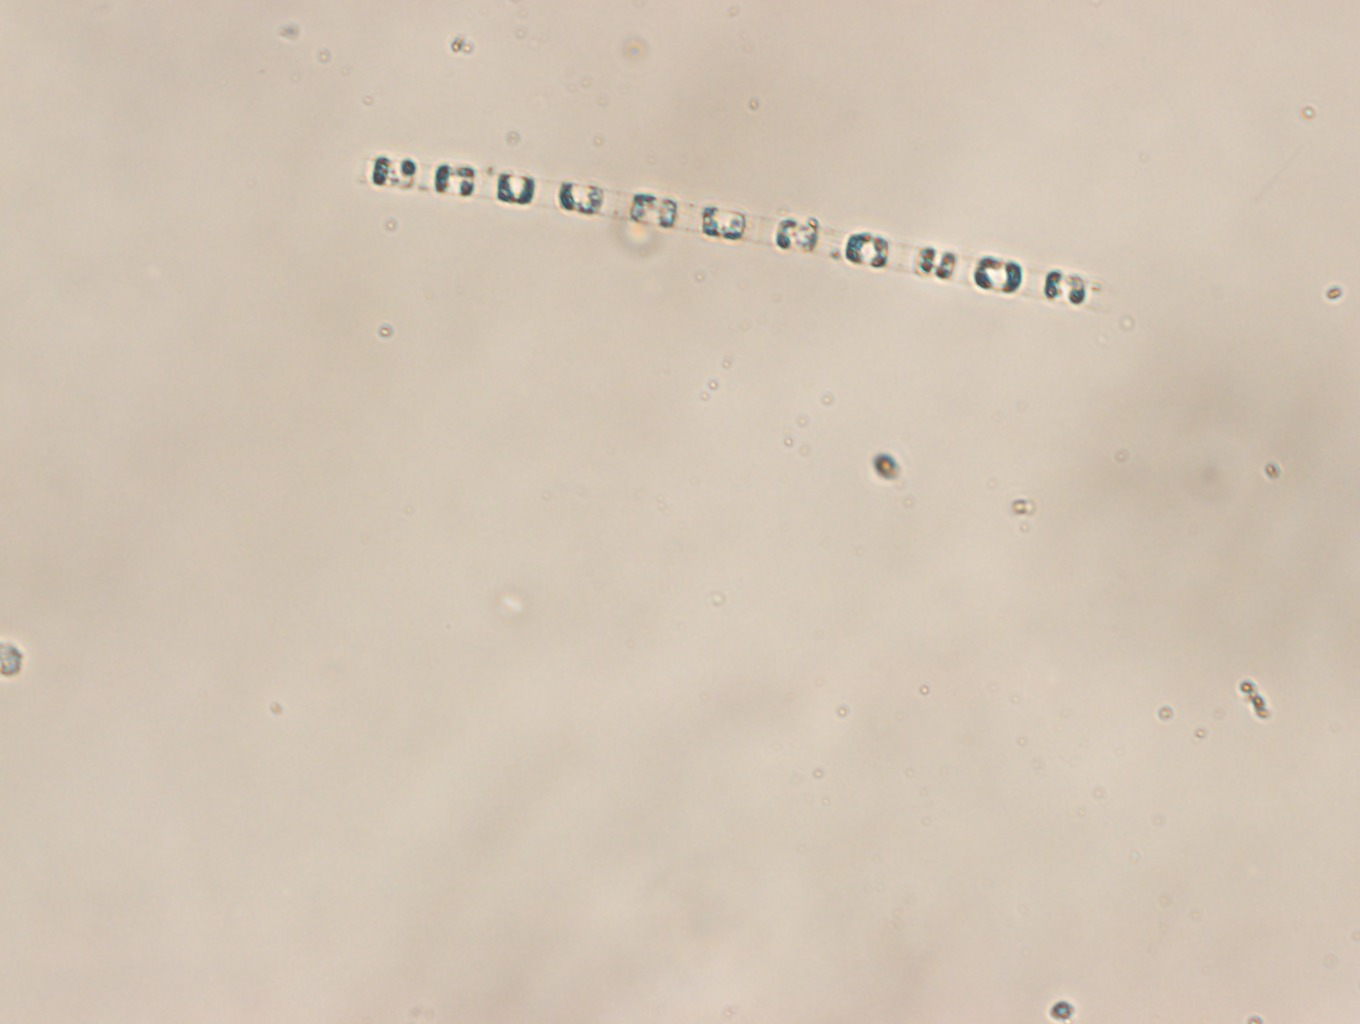skeletonema: (352, 151, 1110, 316)
